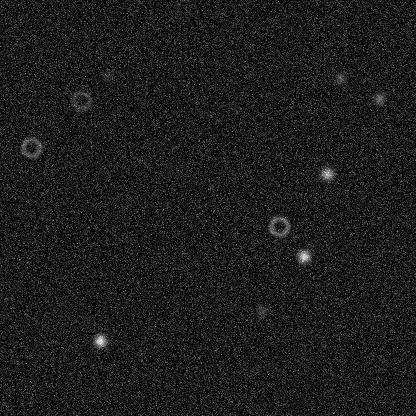Ring: (267, 214, 291, 238), (19, 135, 43, 159), (69, 88, 93, 112)
Spot: (254, 303, 270, 319), (319, 165, 335, 181), (92, 332, 108, 348), (295, 248, 311, 264), (371, 90, 387, 106), (98, 67, 114, 83), (331, 70, 347, 86)
